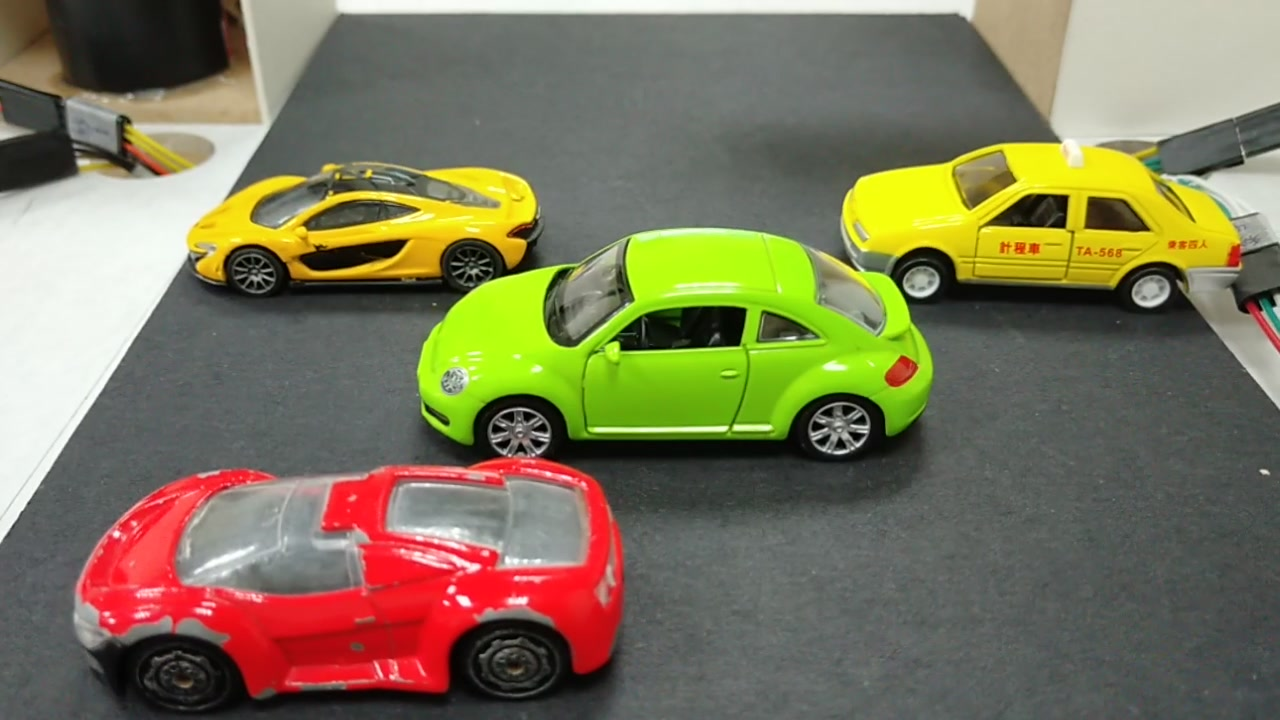car: (73, 462, 629, 710), (423, 231, 921, 456), (840, 140, 1248, 309), (189, 166, 532, 299)
